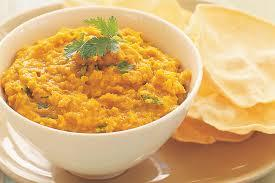Dhal Curry: (4, 16, 194, 142)
